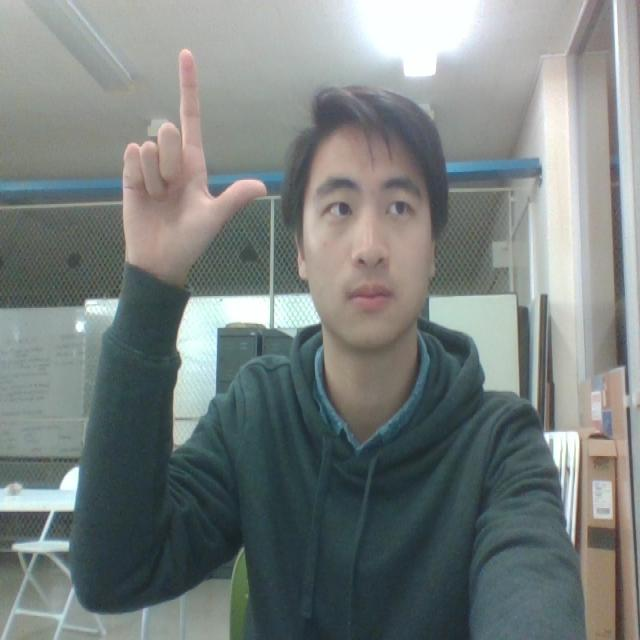L: (109, 35, 271, 292)
